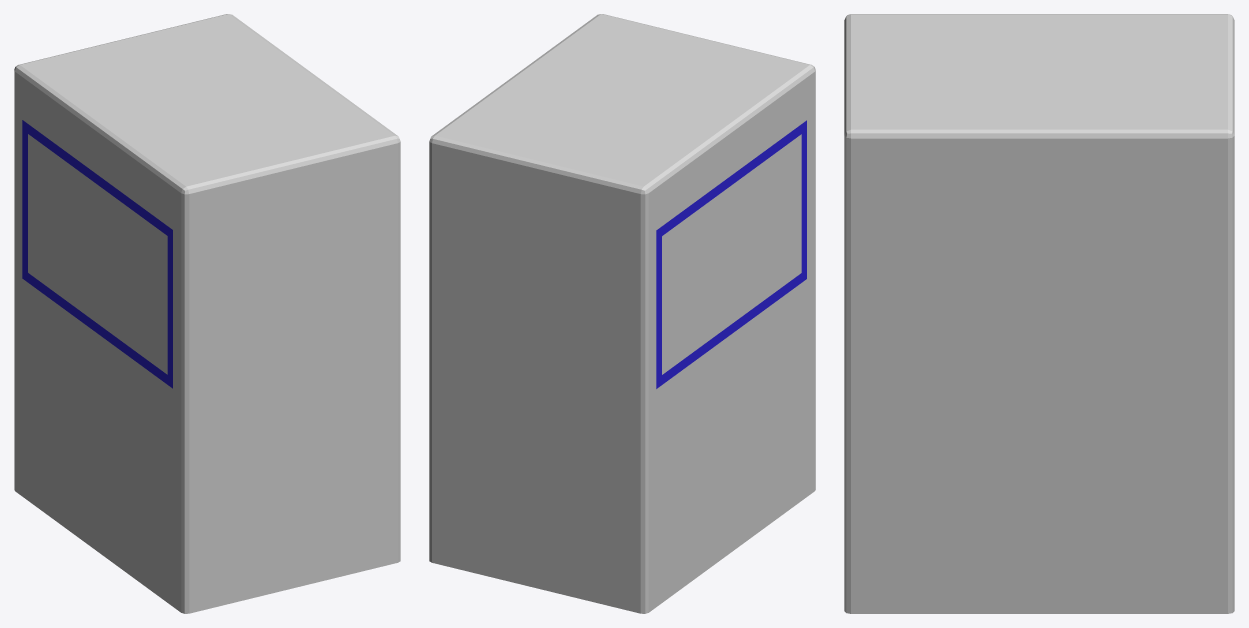
File: distributeur.fbx
3 renders of one model, left to right at view 1: azimuth 30°, elevation 25°; view 2: azimuth 150°, elevation 25°; view 3: azimuth 270°, elevation 25°, orthographic. The views are drawn at different scales.
Visible parts, largest first — view 1: Cube; view 2: Cube; view 3: Cube.
Boxes of the visible parts, left/top/right/bottom form: Cube: left=14, top=14, right=400, bottom=613; Cube: left=429, top=14, right=815, bottom=613; Cube: left=844, top=14, right=1234, bottom=613.
Size of the model in its own units: 1.47 by 2 by 2.72.
